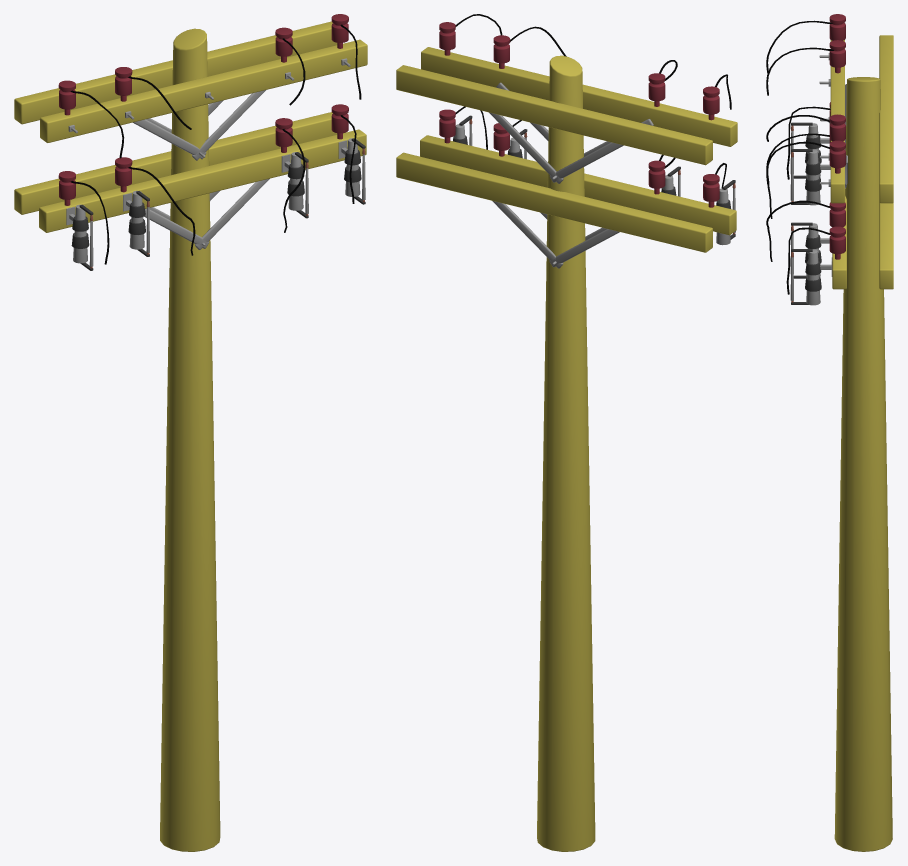
File: Póste_energia.fbx
3 renders of one model, left to right at view 1: azimuth 30°, elevation 25°; view 2: azimuth 150°, elevation 25°; view 3: azimuth 270°, elevation 25°, orthographic. The views are drawn at different scales.
Parts seen in each view (by area): view 1: Poste_energia, Poste_energia_cabo, Poste_energia_trasf, Poste_energia_haste; view 2: Poste_energia, Poste_energia_cabo, Poste_energia_haste, Poste_energia_trasf; view 3: Poste_energia, Poste_energia_cabo, Poste_energia_trasf.
Part boxes in pixels (bbox=[...]): Poste_energia: bbox=[14, 21, 367, 851]; Poste_energia_cabo: bbox=[58, 14, 361, 264]; Poste_energia_trasf: bbox=[66, 138, 365, 270]; Poste_energia_haste: bbox=[133, 90, 269, 249]; Poste_energia: bbox=[396, 47, 737, 851]; Poste_energia_cabo: bbox=[439, 14, 731, 207]; Poste_energia_haste: bbox=[489, 82, 653, 268]; Poste_energia_trasf: bbox=[453, 115, 735, 245]; Poste_energia: bbox=[820, 35, 893, 851]; Poste_energia_cabo: bbox=[766, 14, 845, 294]; Poste_energia_trasf: bbox=[790, 122, 832, 305].
Size of the model in its own units: 456 by 1095 by 165.
